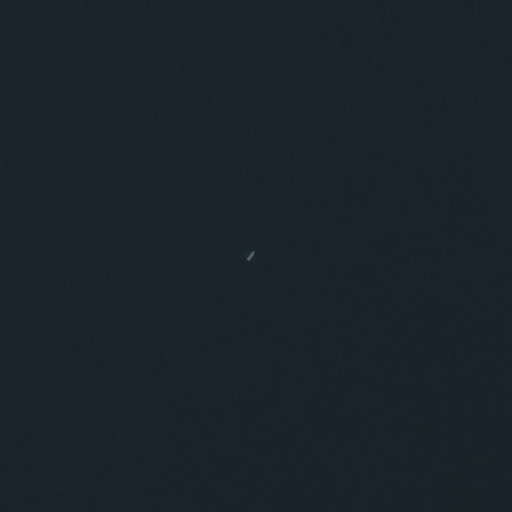ship: (242, 247, 258, 264)
